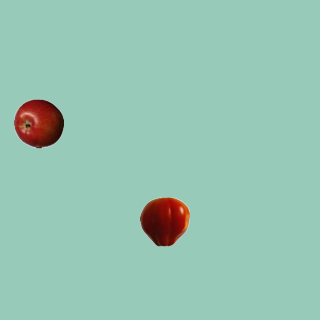Apple Braeburn: (13, 98, 63, 148)
Tomato 1: (139, 196, 189, 246)
